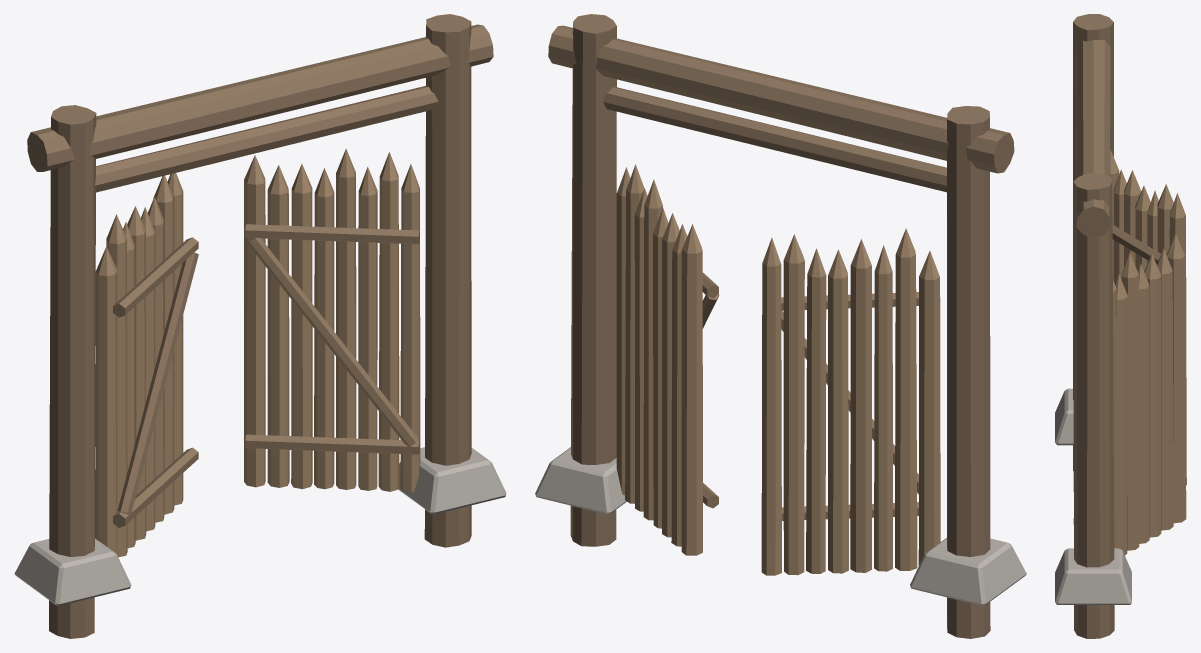
The model's file is P02_栅栏门.fbx.
3 renders of one model, left to right at view 1: azimuth 30°, elevation 25°; view 2: azimuth 150°, elevation 25°; view 3: azimuth 270°, elevation 25°, orthographic. The views are drawn at different scales.
Visible parts, largest first — view 1: P02_门扇, P02_门柱, P02_门楣, P02_门柱_石础, P02_门扇_横档, P02_门扇_斜撑; view 2: P02_门扇, P02_门柱, P02_门楣, P02_门柱_石础, P02_门扇_横档; view 3: P02_门扇, P02_门柱, P02_门楣, P02_门柱_石础, P02_门扇_横档.
Boxes of the visible parts, x1=… form: P02_门扇: x1=95, y1=148, x2=420, y2=557; P02_门柱: x1=49, y1=14, x2=471, y2=638; P02_门楣: x1=27, y1=24, x2=493, y2=192; P02_门柱_石础: x1=14, y1=447, x2=506, y2=606; P02_门扇_横档: x1=113, y1=224, x2=419, y2=527; P02_门扇_斜撑: x1=117, y1=237, x2=418, y2=514; P02_门扇: x1=616, y1=164, x2=940, y2=575; P02_门柱: x1=570, y1=14, x2=990, y2=638; P02_门楣: x1=548, y1=25, x2=1014, y2=192; P02_门柱_石础: x1=535, y1=447, x2=1026, y2=606; P02_门扇_横档: x1=702, y1=272, x2=940, y2=520; P02_门扇: x1=1110, y1=150, x2=1186, y2=555; P02_门柱: x1=1073, y1=14, x2=1114, y2=638; P02_门楣: x1=1075, y1=39, x2=1110, y2=238; P02_门柱_石础: x1=1055, y1=388, x2=1131, y2=604; P02_门扇_横档: x1=1073, y1=225, x2=1160, y2=524.
Size of the model in its own units: 404 by 440 by 117.
